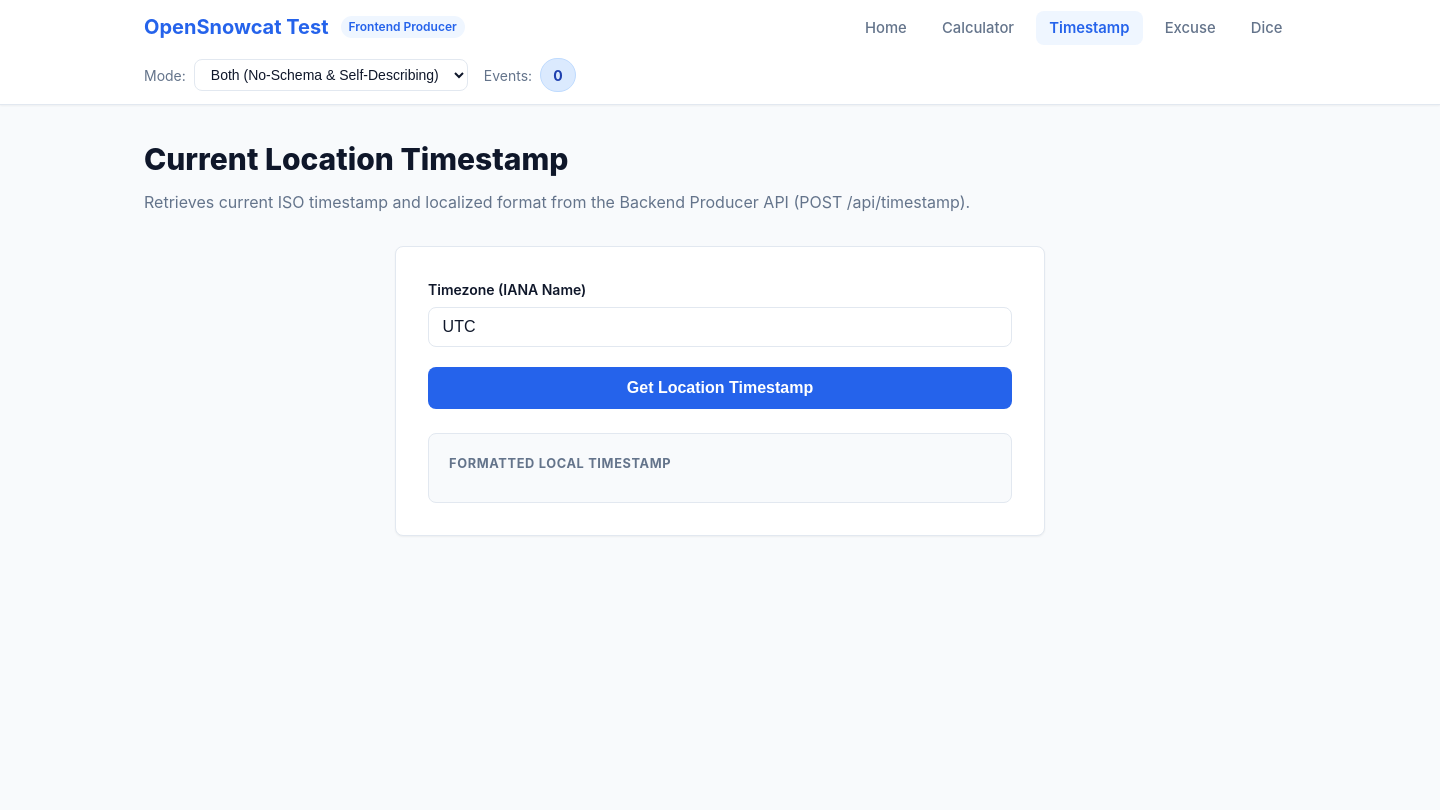
Timestamp Service - End-to-End Integration › fetches timestamp using default browser timezone when not overridden
Click the button with test id "btn-timestamp-fetch" at (720, 388), box [428,367,1012,409]
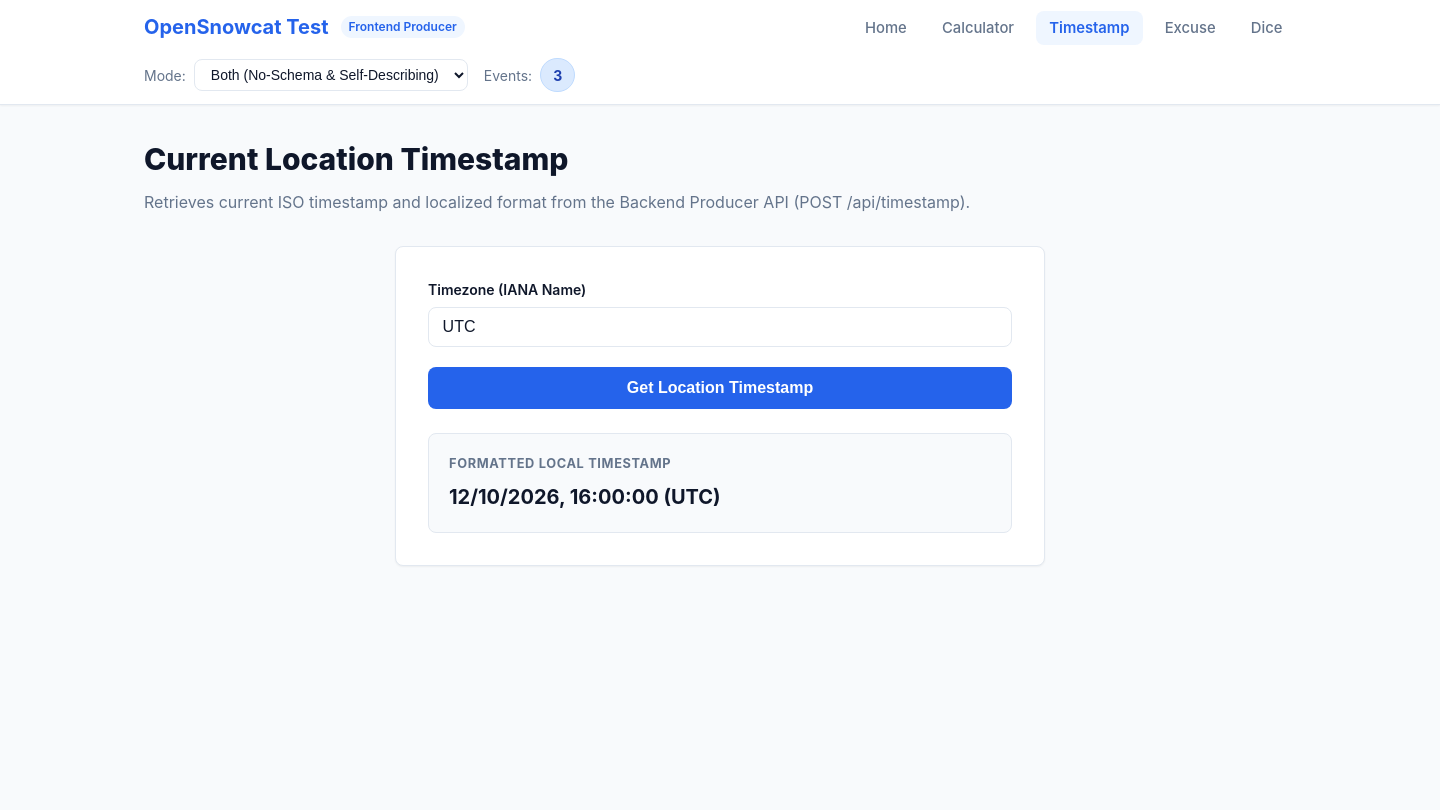
Expected: the text "12/10/2026, 16:00:00 (UTC)" is not empty, [449,484,721,508]
